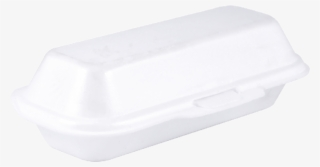Foam Box: (8, 3, 313, 163)
